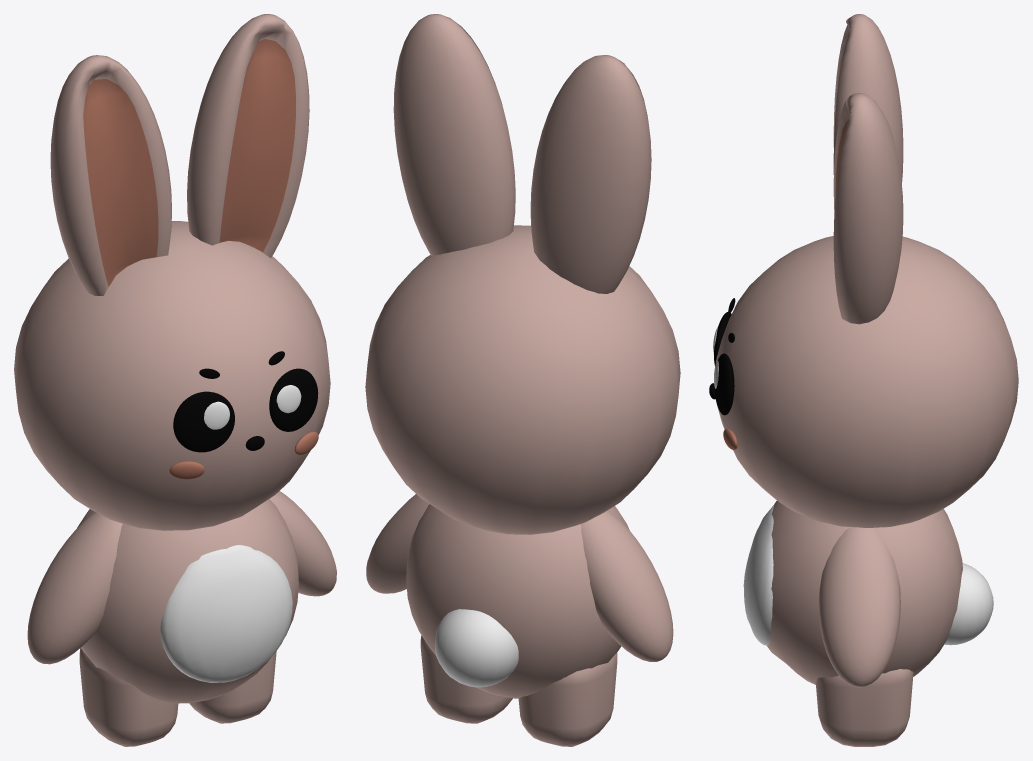
File: Rabbit.fbx
The picture shows the model from 3 angles, left to right: view 1: azimuth 30°, elevation 25°; view 2: azimuth 150°, elevation 25°; view 3: azimuth 270°, elevation 25°; orthographic projection. The views are drawn at different scales.
Visible parts, largest first — view 1: pSphere7, pSphere3, pSphere2, pSphere4, pSphere17, pSphere6, pCube1, pSphere5, pCube2, pSphere8, pSphere9, pSphere12 (+2 smaller); view 2: pSphere7, pSphere4, pSphere3, pSphere2, pSphere6, pCube1, pSphere18, pSphere5, pCube2; view 3: pSphere7, pSphere4, pSphere3, pSphere5, pCube2, pSphere2, pSphere17, pSphere18, pSphere9.
Part boxes in pixels (x1=…): pSphere7: x1=14, y1=221, x2=330, y2=530; pSphere3: x1=187, y1=14, x2=309, y2=257; pSphere2: x1=50, y1=55, x2=171, y2=295; pSphere4: x1=77, y1=499, x2=298, y2=703; pSphere17: x1=160, y1=545, x2=292, y2=682; pSphere6: x1=27, y1=512, x2=122, y2=664; pCube1: x1=79, y1=648, x2=178, y2=746; pSphere5: x1=269, y1=491, x2=336, y2=596; pCube2: x1=189, y1=651, x2=276, y2=723; pSphere8: x1=173, y1=391, x2=234, y2=452; pSphere9: x1=269, y1=368, x2=318, y2=431; pSphere12: x1=204, y1=401, x2=229, y2=429; pSphere7: x1=365, y1=225, x2=680, y2=534; pSphere4: x1=406, y1=504, x2=629, y2=698; pSphere3: x1=393, y1=14, x2=515, y2=255; pSphere2: x1=530, y1=55, x2=651, y2=293; pSphere6: x1=581, y1=510, x2=673, y2=661; pCube1: x1=518, y1=653, x2=617, y2=746; pSphere18: x1=434, y1=609, x2=518, y2=687; pSphere5: x1=366, y1=494, x2=428, y2=593; pCube2: x1=420, y1=635, x2=512, y2=723; pSphere7: x1=716, y1=236, x2=1018, y2=527; pSphere4: x1=767, y1=501, x2=962, y2=684; pSphere3: x1=833, y1=93, x2=903, y2=324; pSphere5: x1=818, y1=527, x2=900, y2=687; pCube2: x1=815, y1=669, x2=913, y2=746; pSphere2: x1=833, y1=14, x2=903, y2=183; pSphere17: x1=743, y1=505, x2=773, y2=645; pSphere18: x1=944, y1=563, x2=993, y2=645; pSphere9: x1=714, y1=353, x2=734, y2=415.
Bounding box in the file's own units: 2.18 × 4.8 × 2.03.
